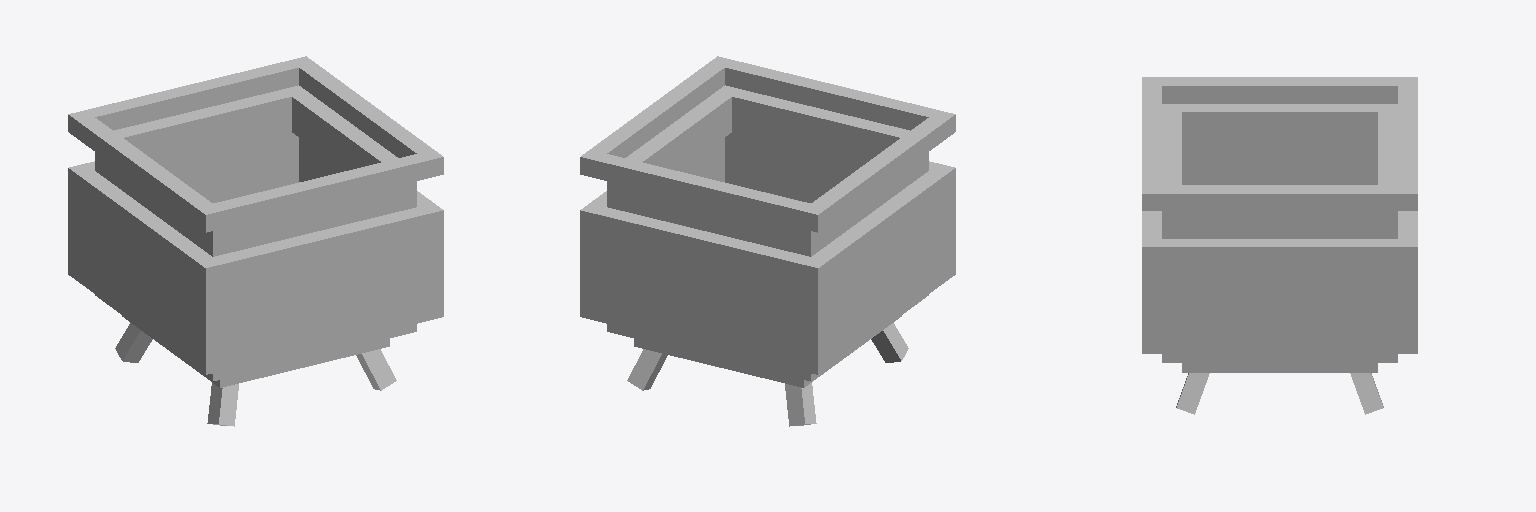
The model's file is witchs_cauldron.obj.
The picture shows the model from 3 angles: view 1: azimuth 30°, elevation 25°; view 2: azimuth 150°, elevation 25°; view 3: azimuth 270°, elevation 25°; orthographic projection.
Parts seen in each view (by area): view 1: sideB, sideL, neckF, sideF, lipB, lipF, lipL, neckR, lipR, neckB, sideR, neckL (+5 smaller); view 2: sideF, sideL, neckB, sideB, lipF, lipB, lipL, neckR, lipR, neckF, sideR, neckL (+5 smaller); view 3: sideR, neckL, sideL, lipR, lipL, neckR, bottomR, lipF, lipB, base, neckF, neckB (+4 smaller).
Boxes of the visible parts, x1=… form: sideB: x1=214, y1=207, x2=426, y2=370; sideL: x1=68, y1=164, x2=222, y2=374; neckF: x1=114, y1=90, x2=291, y2=164; sideF: x1=85, y1=132, x2=298, y2=202; lipB: x1=213, y1=154, x2=426, y2=227; lipF: x1=86, y1=60, x2=298, y2=130; lipL: x1=68, y1=110, x2=222, y2=232; neckR: x1=282, y1=85, x2=416, y2=210; lipR: x1=290, y1=56, x2=443, y2=178; neckB: x1=230, y1=185, x2=399, y2=252; sideR: x1=299, y1=138, x2=443, y2=320; neckL: x1=95, y1=152, x2=229, y2=256; sideF: x1=597, y1=207, x2=809, y2=370; sideL: x1=801, y1=164, x2=955, y2=374; neckB: x1=732, y1=90, x2=909, y2=164; sideB: x1=725, y1=132, x2=938, y2=202; lipF: x1=597, y1=154, x2=810, y2=227; lipB: x1=725, y1=60, x2=937, y2=130; lipL: x1=801, y1=110, x2=955, y2=232; neckR: x1=607, y1=85, x2=741, y2=210; lipR: x1=580, y1=56, x2=733, y2=178; neckF: x1=624, y1=185, x2=793, y2=252; sideR: x1=580, y1=138, x2=724, y2=320; neckL: x1=794, y1=152, x2=928, y2=256; sideR: x1=1142, y1=239, x2=1417, y2=353; neckL: x1=1162, y1=104, x2=1397, y2=146; sideL: x1=1182, y1=147, x2=1377, y2=184; lipR: x1=1142, y1=185, x2=1417, y2=210; lipL: x1=1142, y1=77, x2=1417, y2=103; neckR: x1=1162, y1=211, x2=1397, y2=238; bottomR: x1=1162, y1=354, x2=1397, y2=362; lipF: x1=1398, y1=86, x2=1417, y2=184; lipB: x1=1142, y1=86, x2=1161, y2=184; base: x1=1182, y1=363, x2=1377, y2=372; neckF: x1=1378, y1=112, x2=1397, y2=184; neckB: x1=1162, y1=112, x2=1181, y2=184.
Bounding box in the file's own units: 0.875 × 0.8455 × 0.875.